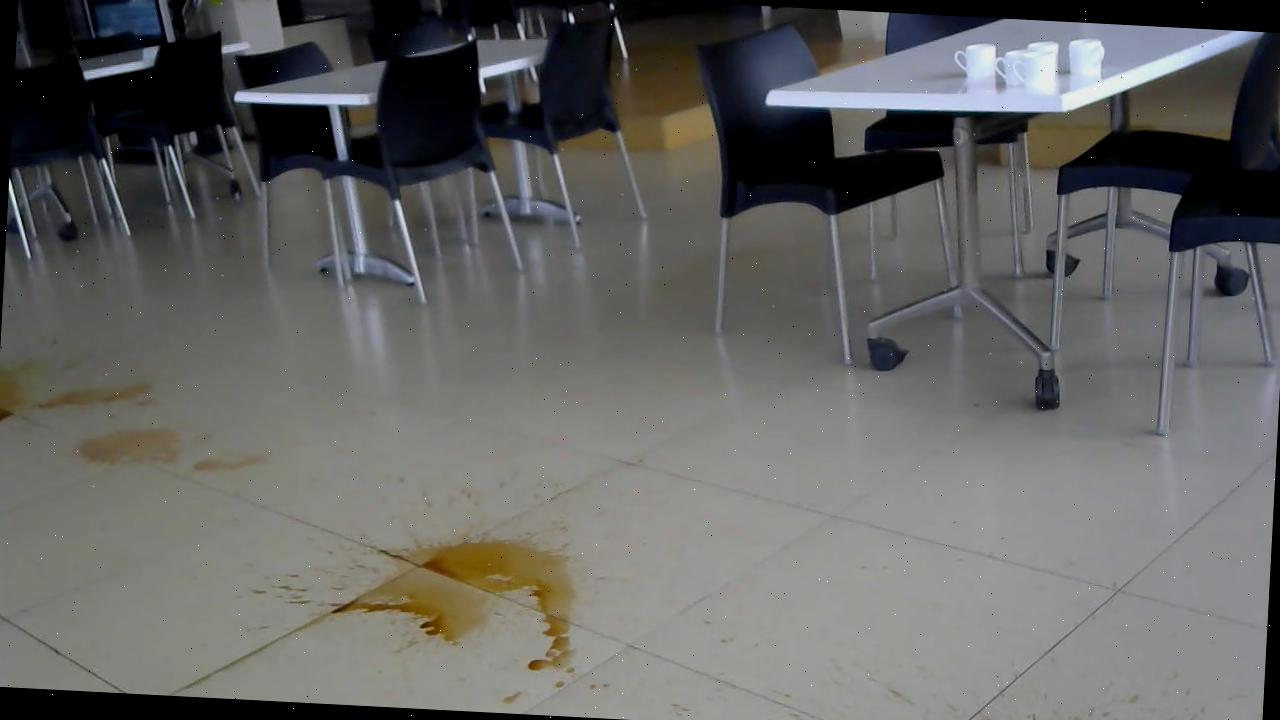dirty_floor: (260, 512, 608, 707), (0, 354, 159, 443), (71, 420, 265, 490), (990, 701, 1225, 720)
